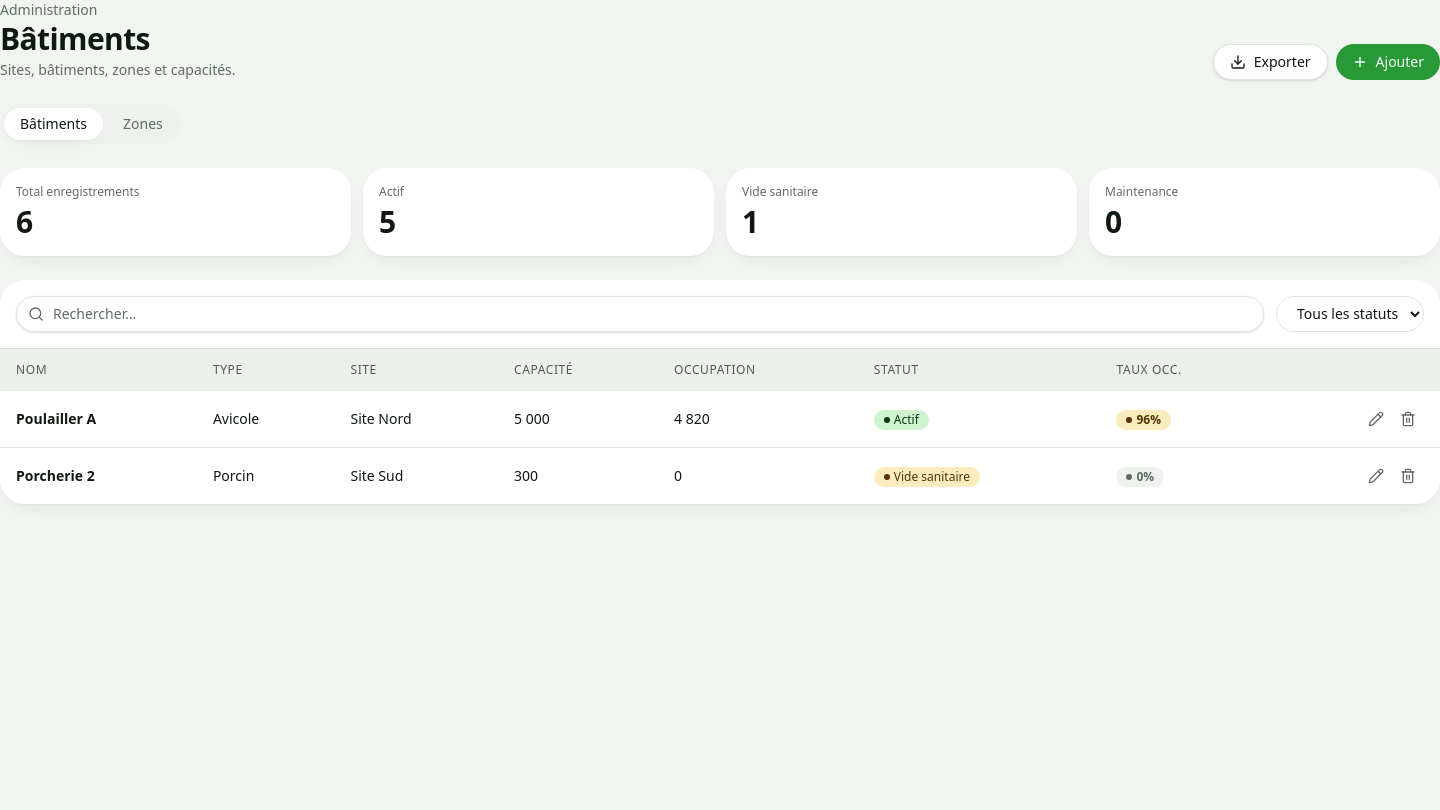
it: ModulePage with the batiments config › asks before deleting and shows the server message on a 409
Expected: the text "Poulailler A" is shown, [0, 390, 197, 447]
Click the button named "Supprimer" in the row of "Poulailler A" at (1408, 418), box [1392, 402, 1424, 434]
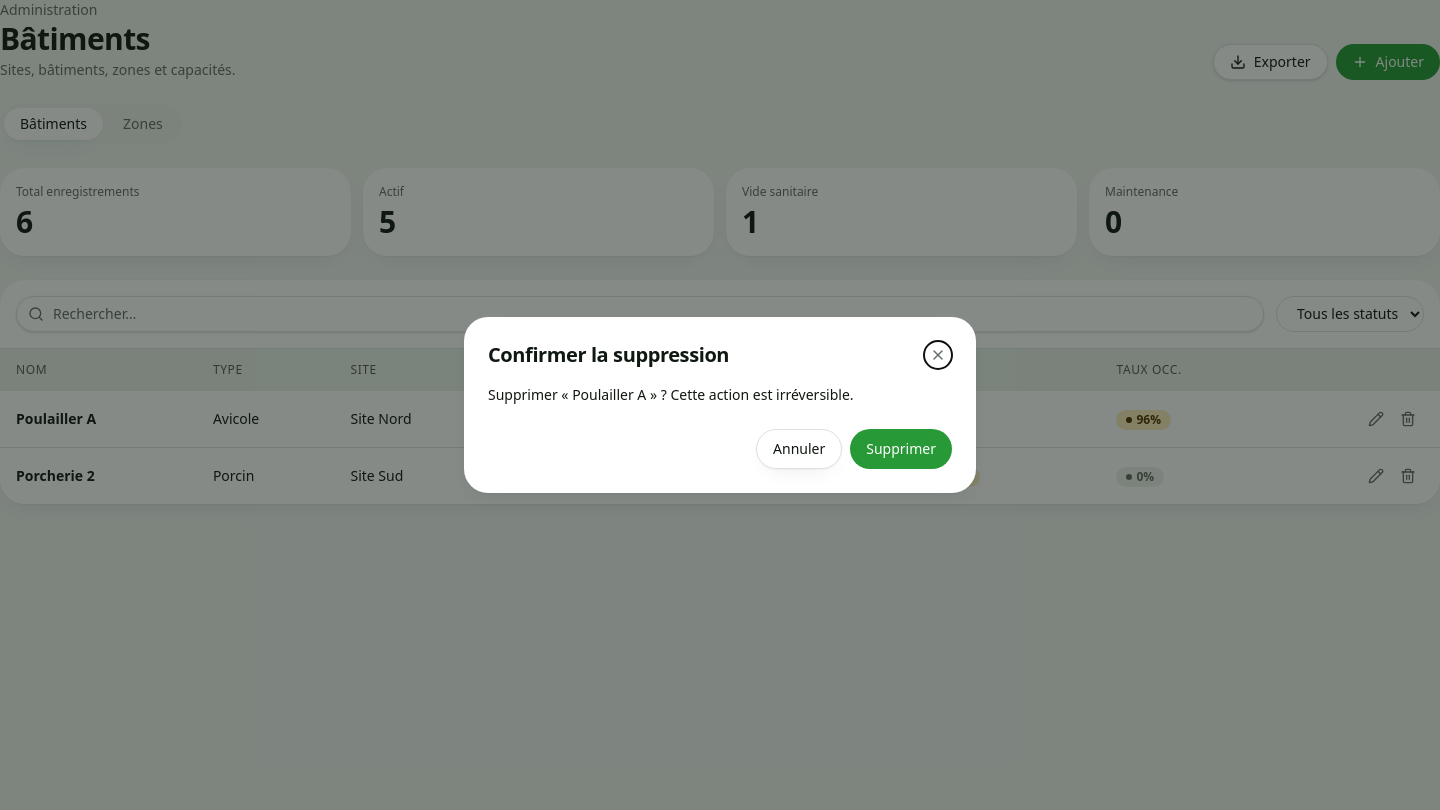
Expected: the dialog shows "Supprimer « Poulailler A » ? Cette action est irréversible.", [488, 385, 854, 404]
Click the button "Supprimer" at (901, 449), box [850, 429, 952, 469]
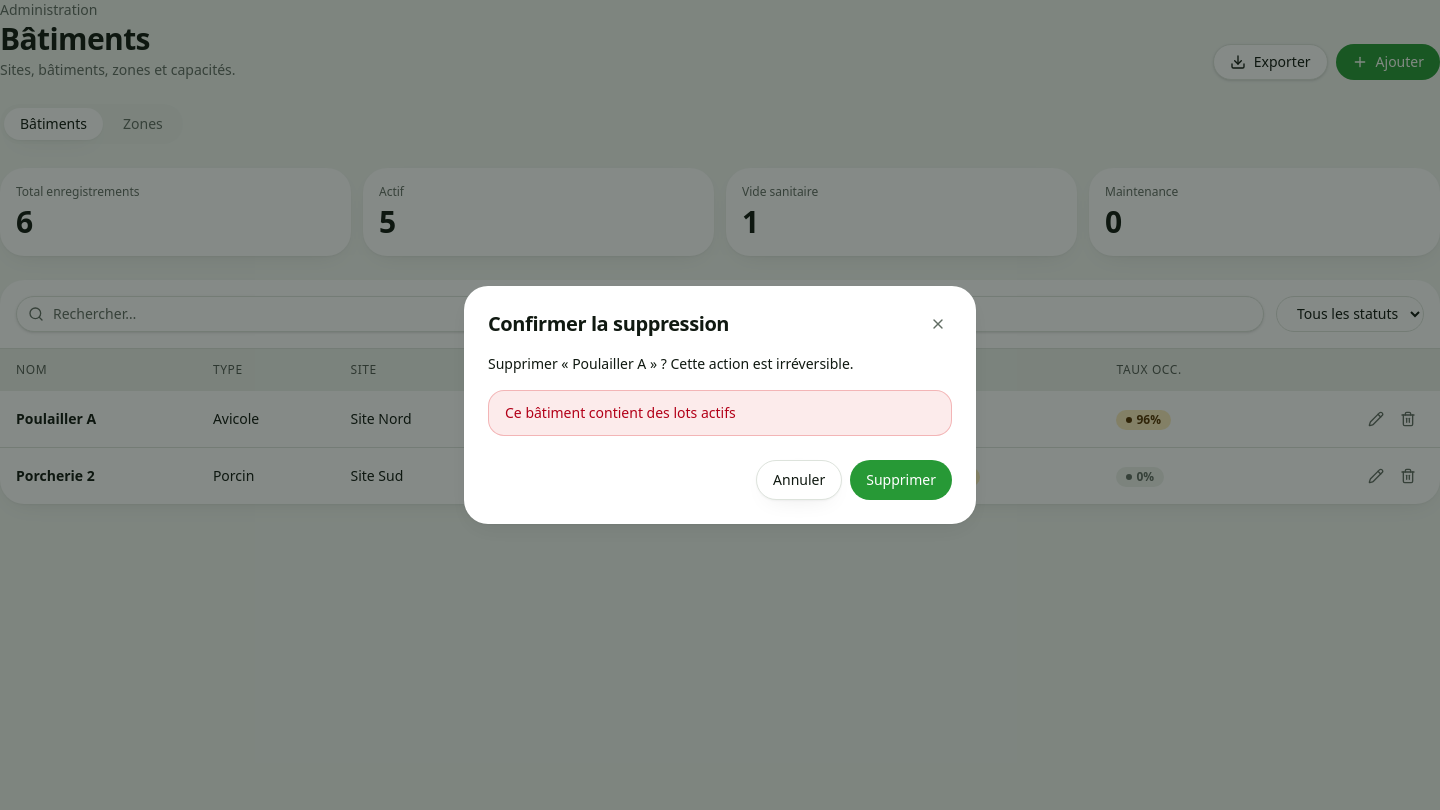
Expected: the text "Ce bâtiment contient des lots actifs" is shown, [488, 390, 952, 436]
